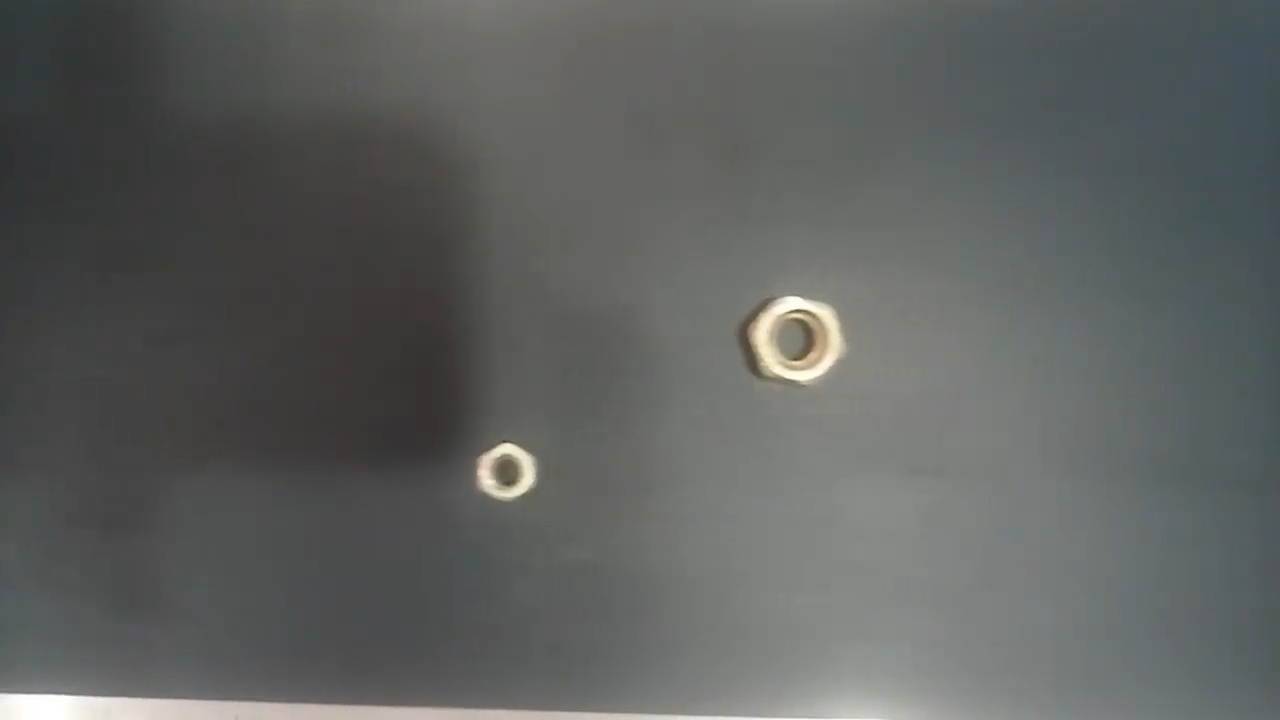Bolt: (744, 291, 844, 386), (470, 439, 542, 503)
